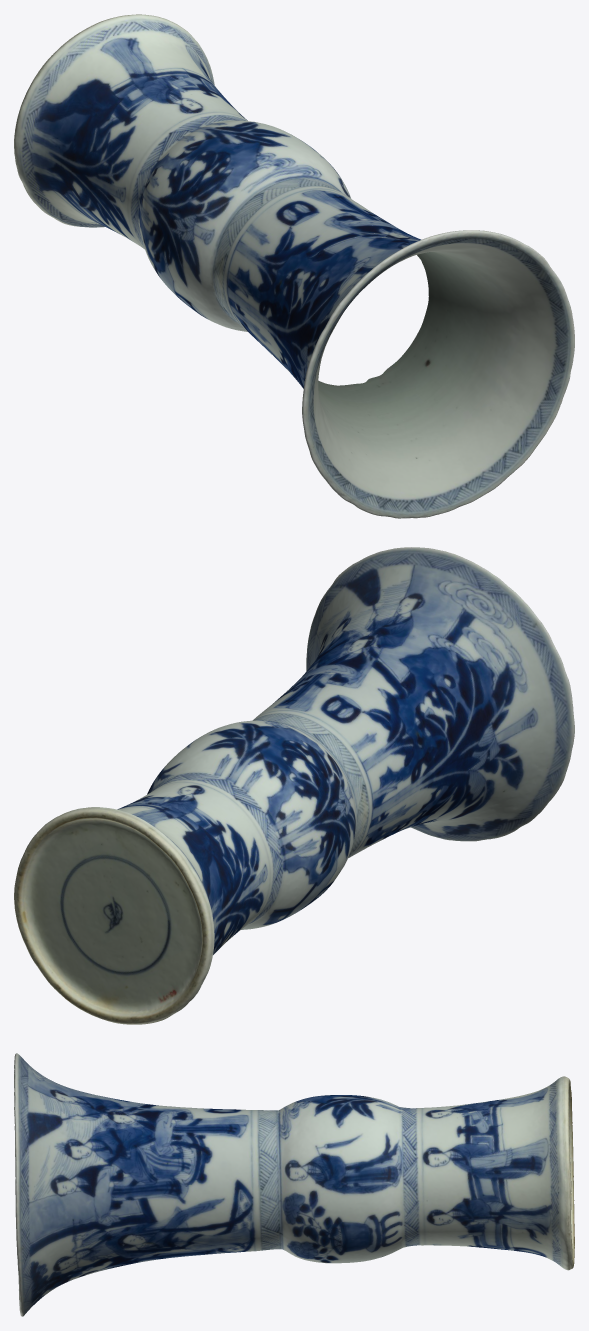
File: preview.glb
3 renders of one model, top to bottom at view 1: azimuth 30°, elevation 25°; view 2: azimuth 150°, elevation 25°; view 3: azimuth 270°, elevation 25°, orthographic. The views are drawn at different scales.
Size of the model in its own units: 0.203 by 0.2037 by 0.4338.
1 material, 1 textured.
